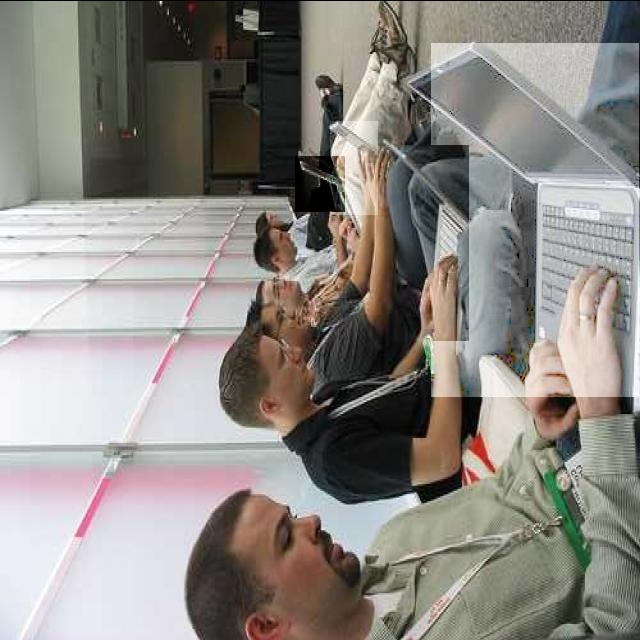-keyboard-: (432, 44, 640, 398), (387, 146, 469, 342), (330, 121, 378, 215), (296, 156, 346, 212)
